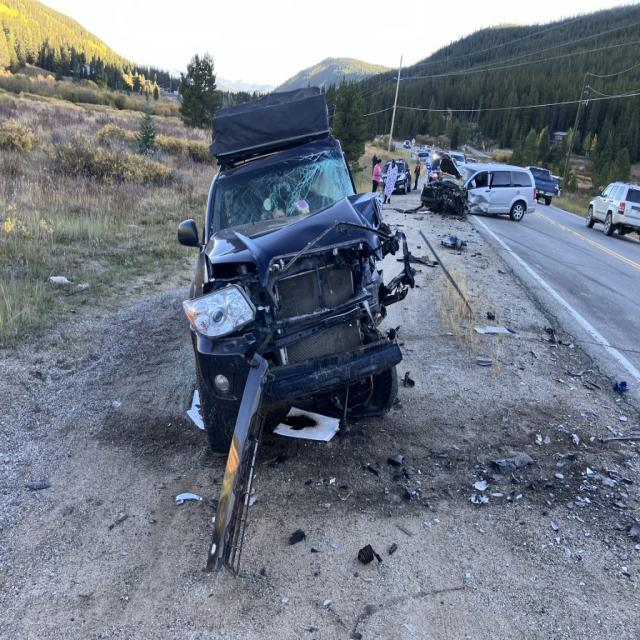Accident: (180, 66, 434, 562)
